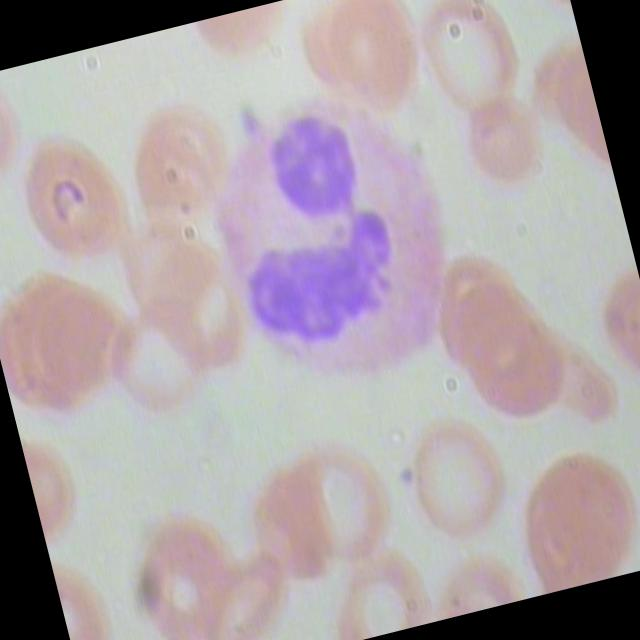RBC: (8, 121, 150, 288), (508, 439, 640, 594), (392, 406, 522, 560), (283, 0, 435, 130), (279, 434, 406, 584), (120, 514, 260, 640), (401, 0, 531, 135), (458, 100, 555, 206), (0, 69, 34, 198)
WBC: (192, 70, 494, 417)
